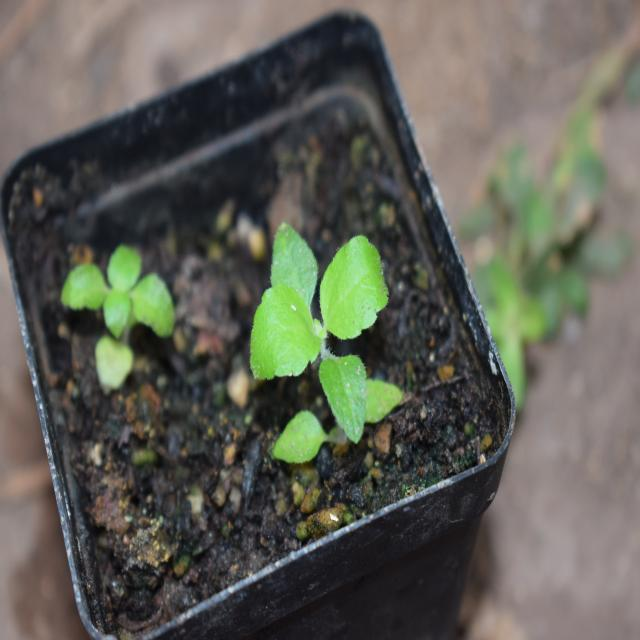billygoat_weed: (235, 200, 403, 456), (49, 240, 172, 366)
